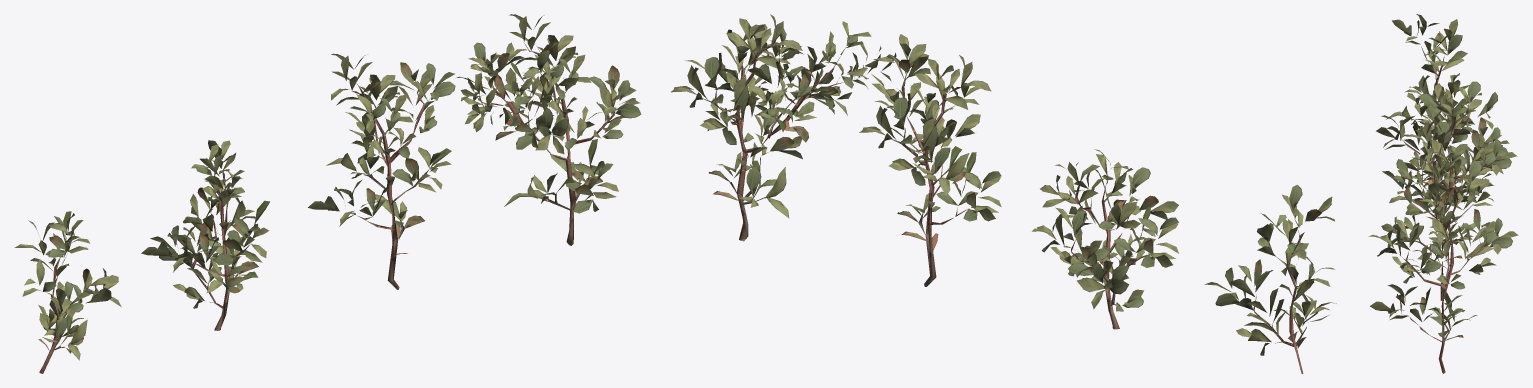
File: scene-bush2.glb
3 renders of one model, left to right at view 1: azimuth 30°, elevation 25°; view 2: azimuth 150°, elevation 25°; view 3: azimuth 270°, elevation 25°, orthographic. The views are drawn at different scales.
Visible parts, largest first — view 1: shrub_04; view 2: shrub_04; view 3: shrub_04.
Boxes of the visible parts, <box> form: shrub_04: <box>14,14,641,373</box>; shrub_04: <box>671,14,1336,373</box>; shrub_04: <box>1368,14,1518,373</box>.
Size of the model in its own units: 0.5837 by 0.2192 by 0.1461.
Materials: 1 (1 with a texture image).
